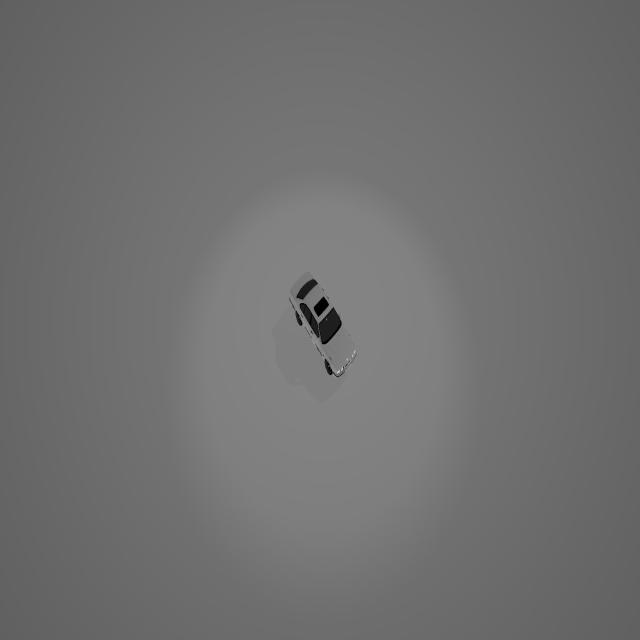Car: (286, 264, 361, 388)
